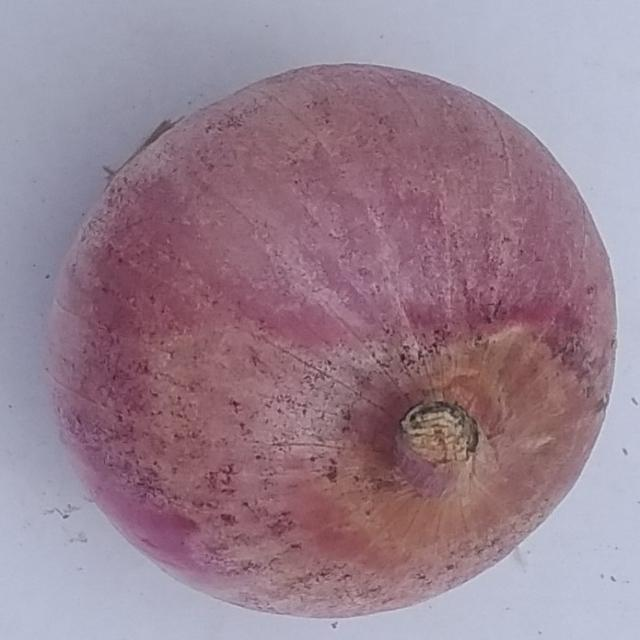onion: (46, 64, 620, 620)
